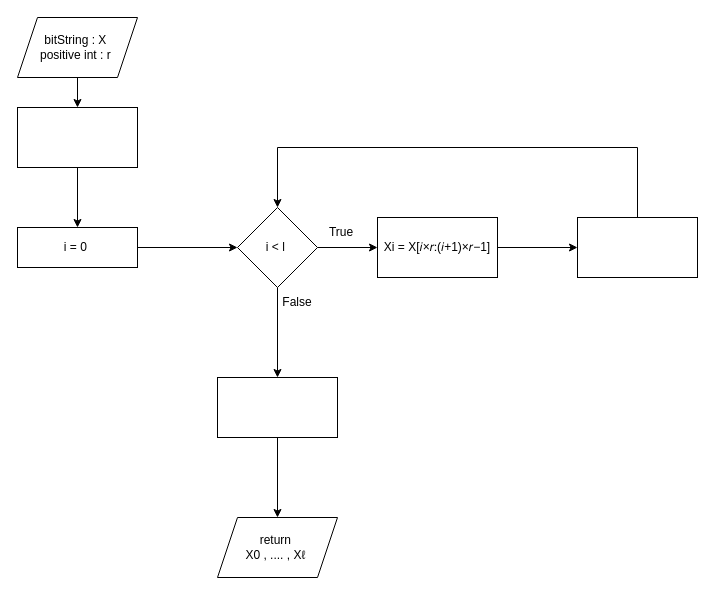
Some shapes in this 715 by 595 pixel diagram are drawn without their labels. The box of each missing label's shape, as (x1, y1, x2, y2) in pixels:
i = i + 1: (576, 216, 698, 278)
int l = [|X| / r]: (16, 106, 138, 168)
𝑋ℓ = 𝑋[ℓ×𝑟∶|𝑋|−1]: (216, 376, 338, 438)
